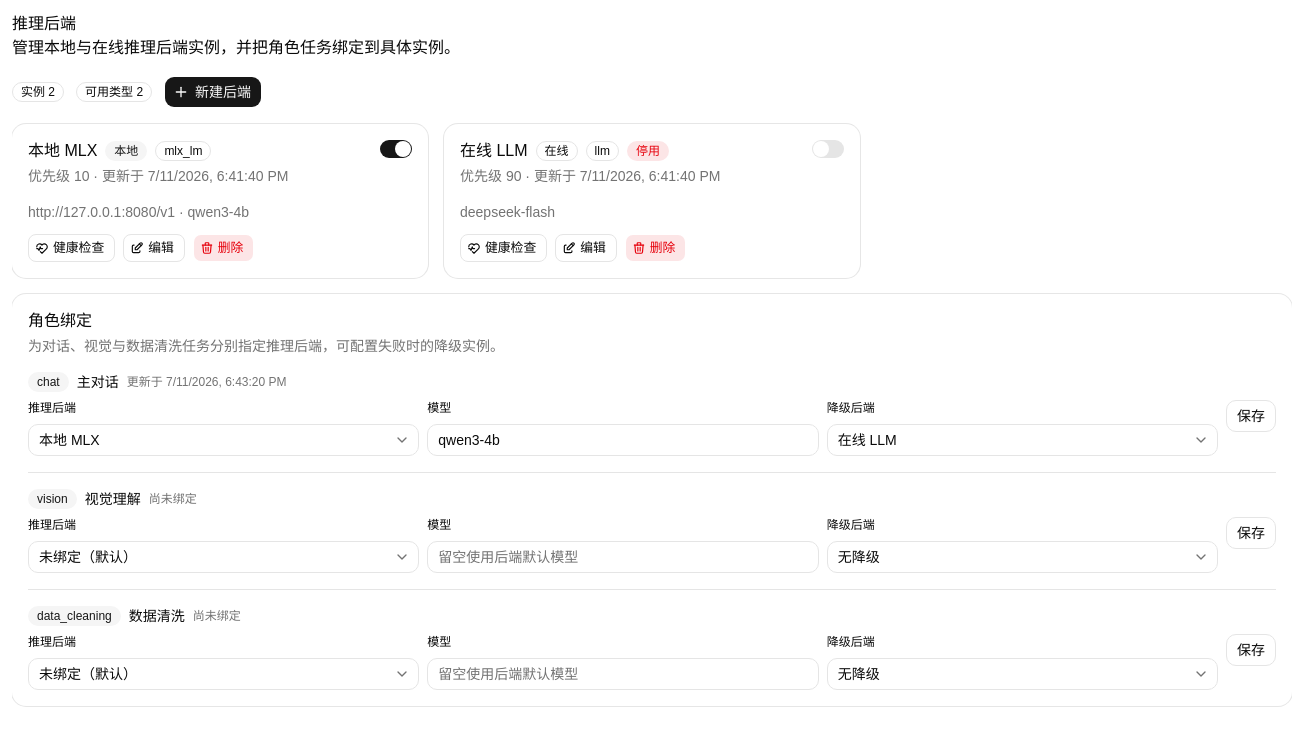
backends workspace › runs health check and surfaces unhealthy status with last_error
What coordinates should you click on to do the following:
click the button "健康检查" below "http://127.0.0.1:8080/v1 · qwen3-4b"
I would click on:
 (72, 248)
Its box is [28,234,115,262].
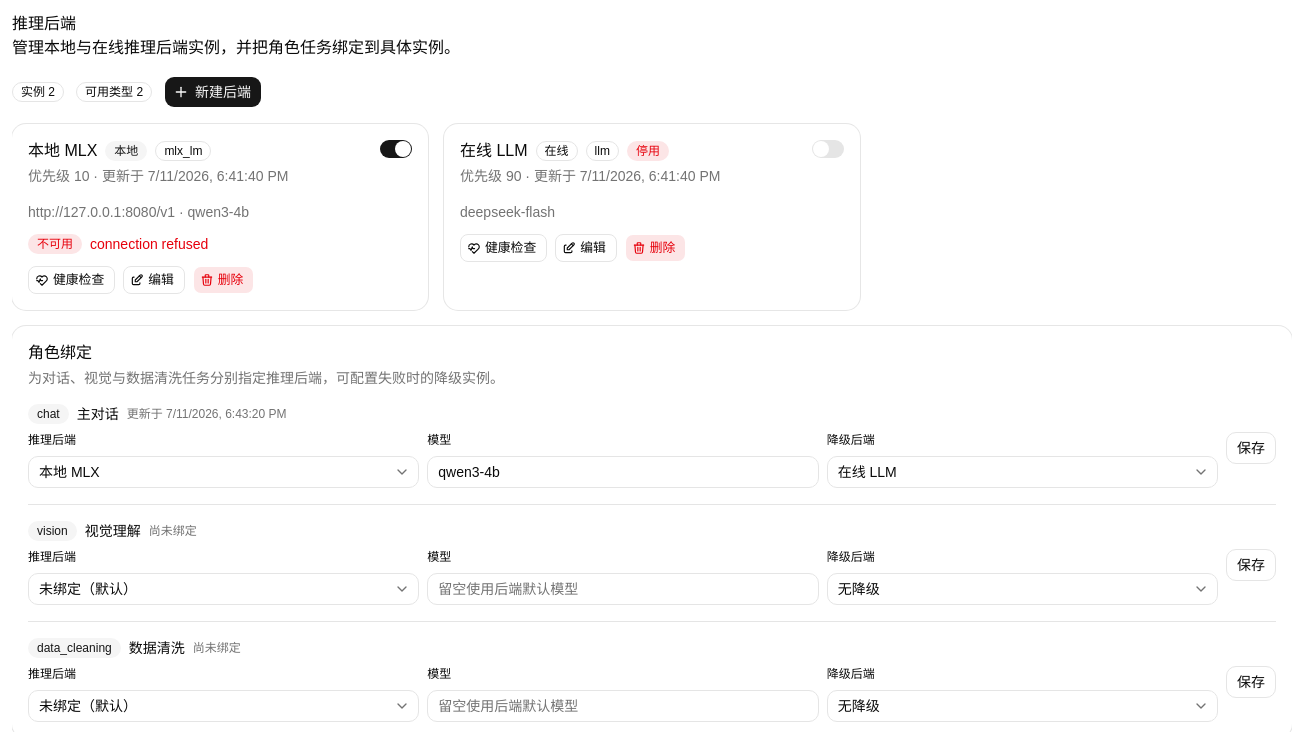
Check: the icon "不可用" is shown, box [28,234,82,254]
Check: the text "connection refused" is shown, box [90,234,208,254]
